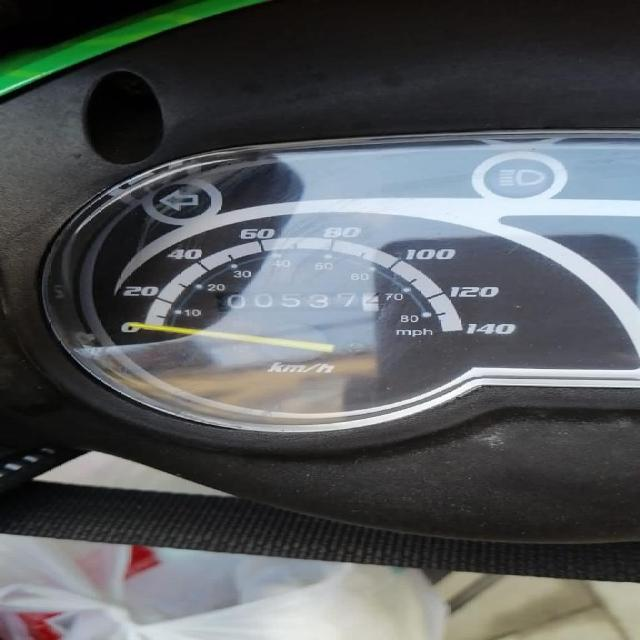odometer: (210, 288, 383, 314)
